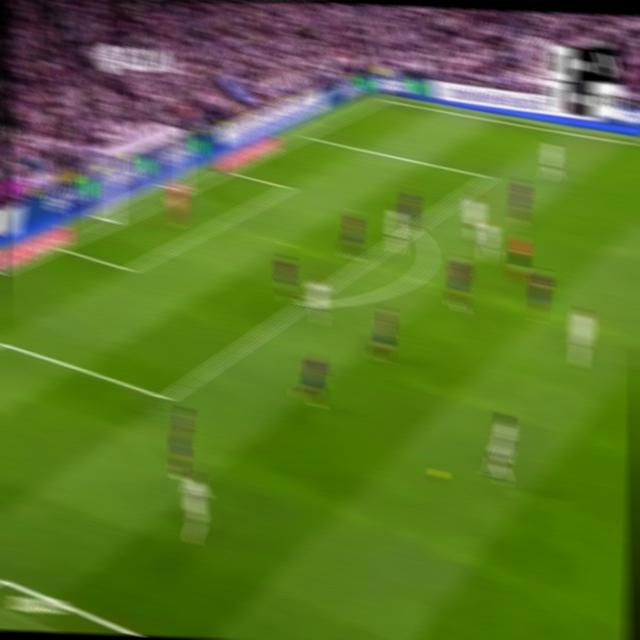bigarea_bottom_inner: (157, 382, 176, 411)
bigarea_top_inner: (484, 169, 494, 183)
bottom_arc_area_intersection: (298, 294, 312, 310)
corner: (376, 94, 389, 103)
smallarea_top_inner: (282, 182, 292, 193)
top_arc_area_intersection: (407, 219, 421, 235)
